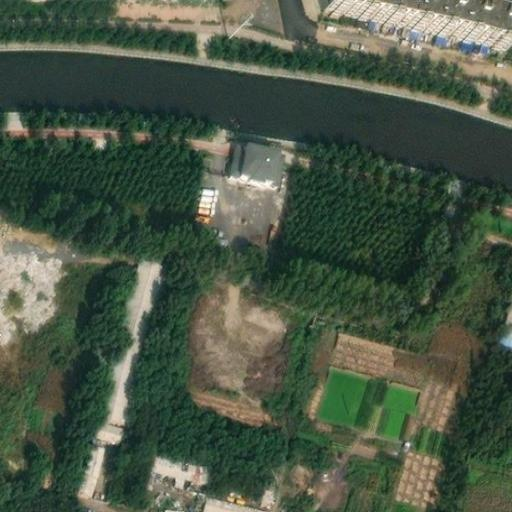building: (98, 251, 165, 415), (324, 0, 512, 43), (239, 146, 285, 188), (76, 432, 108, 490), (215, 0, 280, 26), (153, 447, 208, 476), (202, 490, 271, 512), (180, 130, 228, 155), (93, 408, 123, 438), (226, 144, 245, 181), (164, 500, 191, 512)
